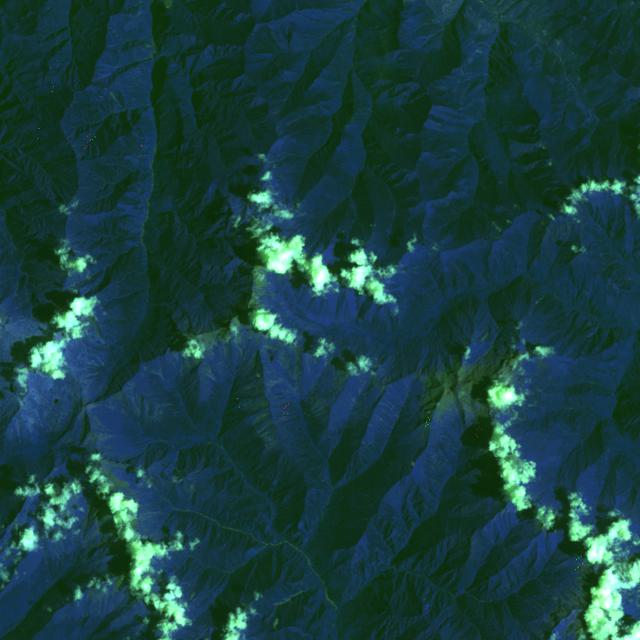landslides: (21, 396, 44, 429), (389, 443, 421, 454), (202, 360, 218, 381), (41, 536, 50, 567), (110, 92, 124, 110), (375, 414, 391, 428), (386, 398, 399, 415), (308, 410, 328, 420), (428, 478, 443, 491), (354, 371, 366, 385), (362, 441, 373, 455), (379, 401, 393, 411), (169, 348, 178, 363), (16, 417, 21, 443)
